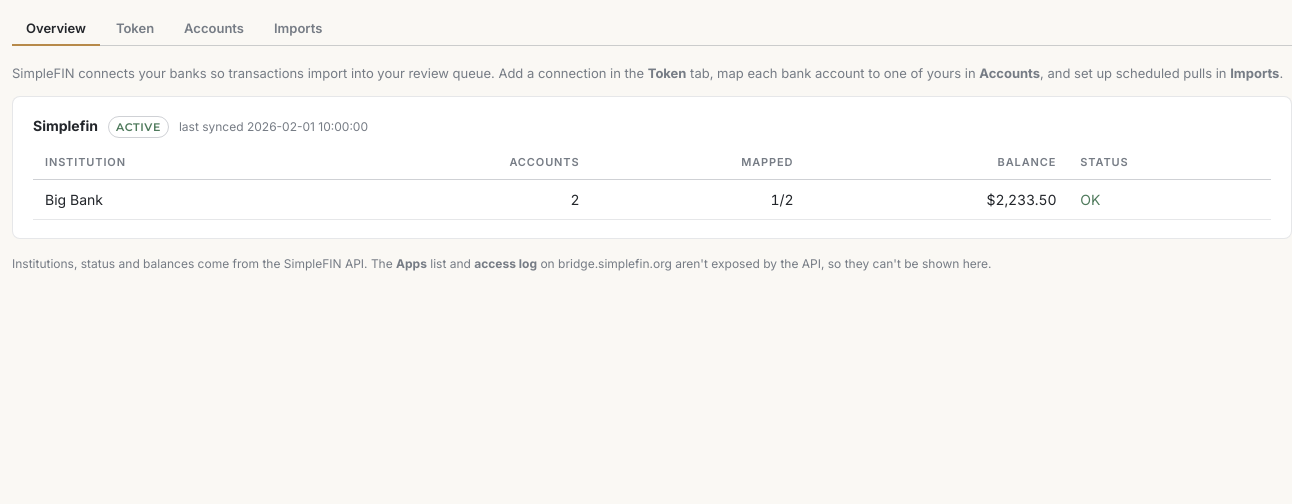
Scenario: LinkedAccounts › renders the Token tab table with active tokens
Expected: the text "Big Bank" is shown, [33, 179, 327, 219]
What coordinates should you click on to do the following:
click the button "Token"
I would click on:
 (135, 29)
Its box is [102, 12, 168, 46].
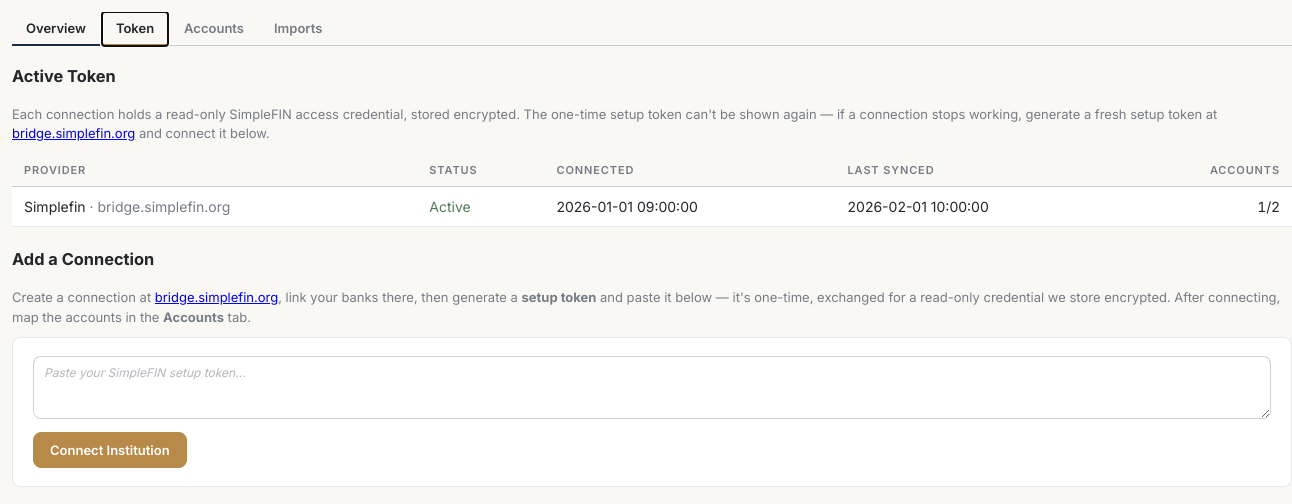
Expected: the heading "Add a Connection" is shown, [12, 249, 154, 269]
Expected: the heading "Active Token" is shown, [12, 66, 116, 86]
